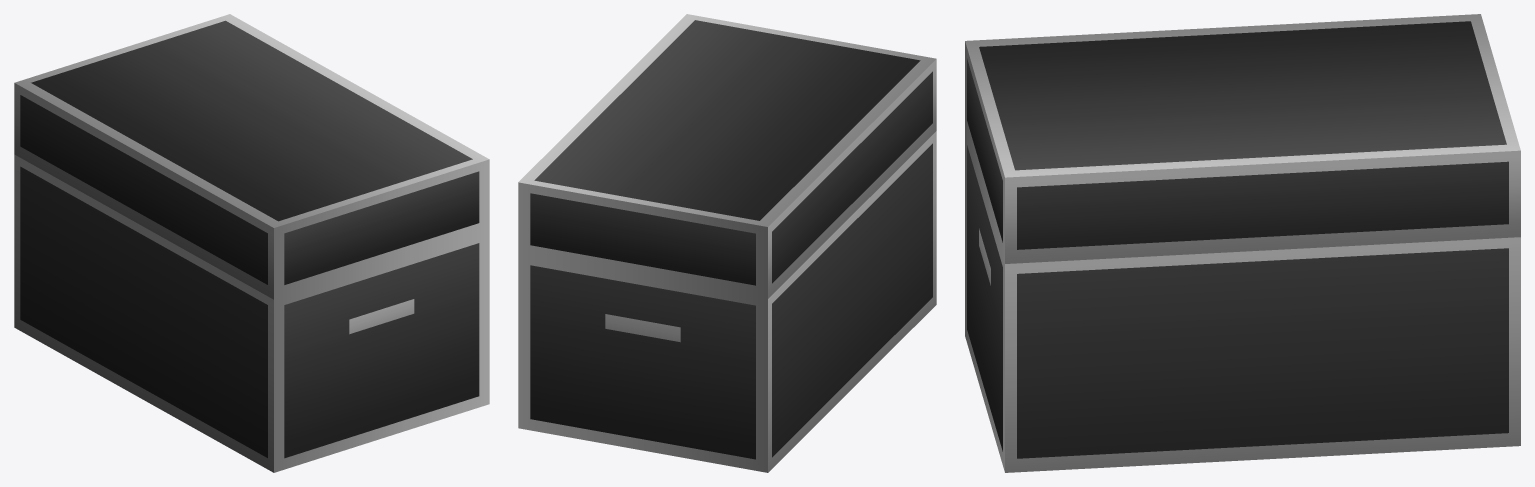
Rendered from chain_box.glb.
The picture shows the model from 3 angles, left to right: view 1: azimuth 30°, elevation 25°; view 2: azimuth 150°, elevation 25°; view 3: azimuth 270°, elevation 25°; orthographic projection. The views are drawn at different scales.
Parts seen in each view (by area): view 1: box_studio.004; view 2: box_studio.004; view 3: box_studio.004.
Boxes of the visible parts, box(x1,y1,x2,y2) form: box_studio.004: box(14, 14, 489, 472); box_studio.004: box(518, 14, 936, 472); box_studio.004: box(965, 14, 1520, 472).
Bounding box in the file's own units: 0.3436 × 0.2893 × 0.4933.
1 material, 1 textured.
